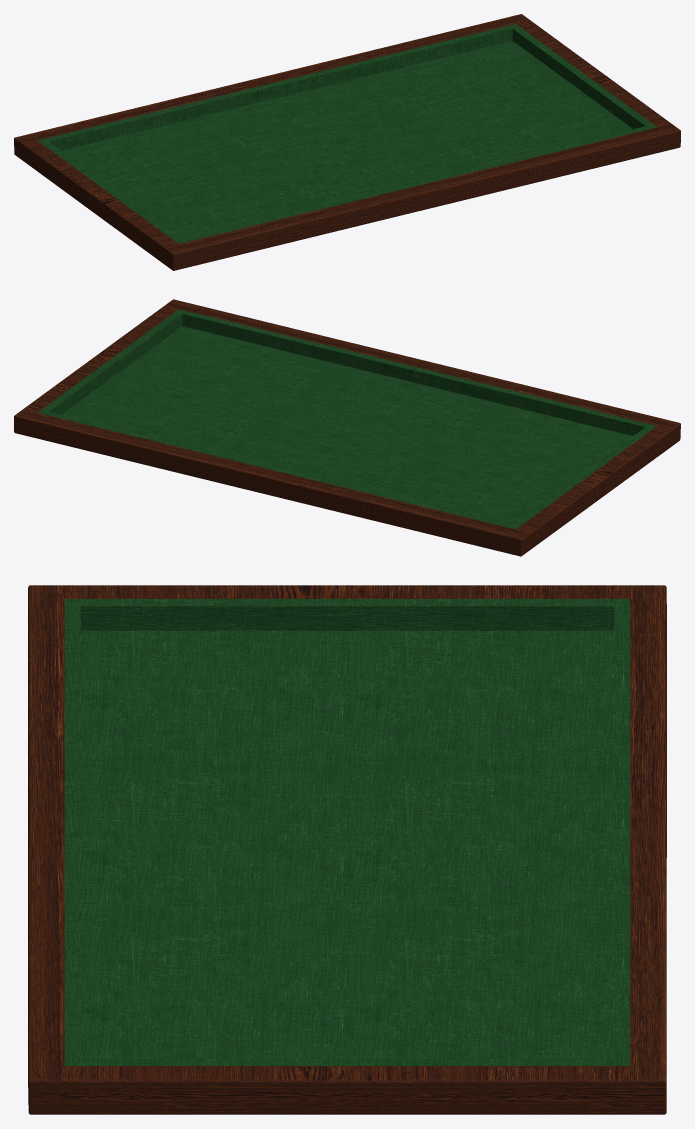
The model's file is tableBed.glb.
3 renders of one model, top to bottom at view 1: azimuth 30°, elevation 25°; view 2: azimuth 150°, elevation 25°; view 3: azimuth 270°, elevation 25°, orthographic. The views are drawn at different scales.
Visible parts, largest first — view 1: cushion, talbe-top, table-w/o bevel; view 2: cushion, talbe-top, table-w/o bevel; view 3: cushion, talbe-top, table-w/o bevel.
Part boxes in pixels (box(x1,y1,x2,y2)): cushion: box(38, 24, 656, 243); talbe-top: box(14, 14, 680, 270); table-w/o bevel: box(37, 23, 657, 244); cushion: box(38, 309, 656, 529); talbe-top: box(14, 299, 680, 556); table-w/o bevel: box(36, 309, 658, 529); cushion: box(64, 599, 630, 1065); talbe-top: box(28, 585, 666, 1114); table-w/o bevel: box(63, 598, 631, 1066).
Size of the model in its own units: 13.16 by 0.4378 by 7.16.
2 materials, 2 textured.
